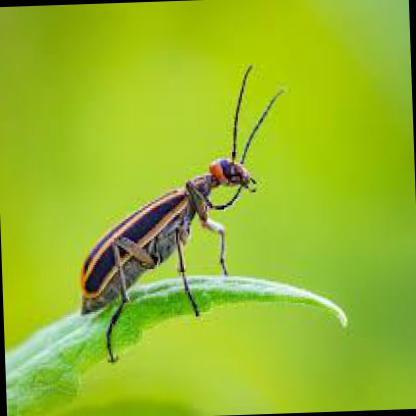blister beetle: (79, 67, 284, 329)
